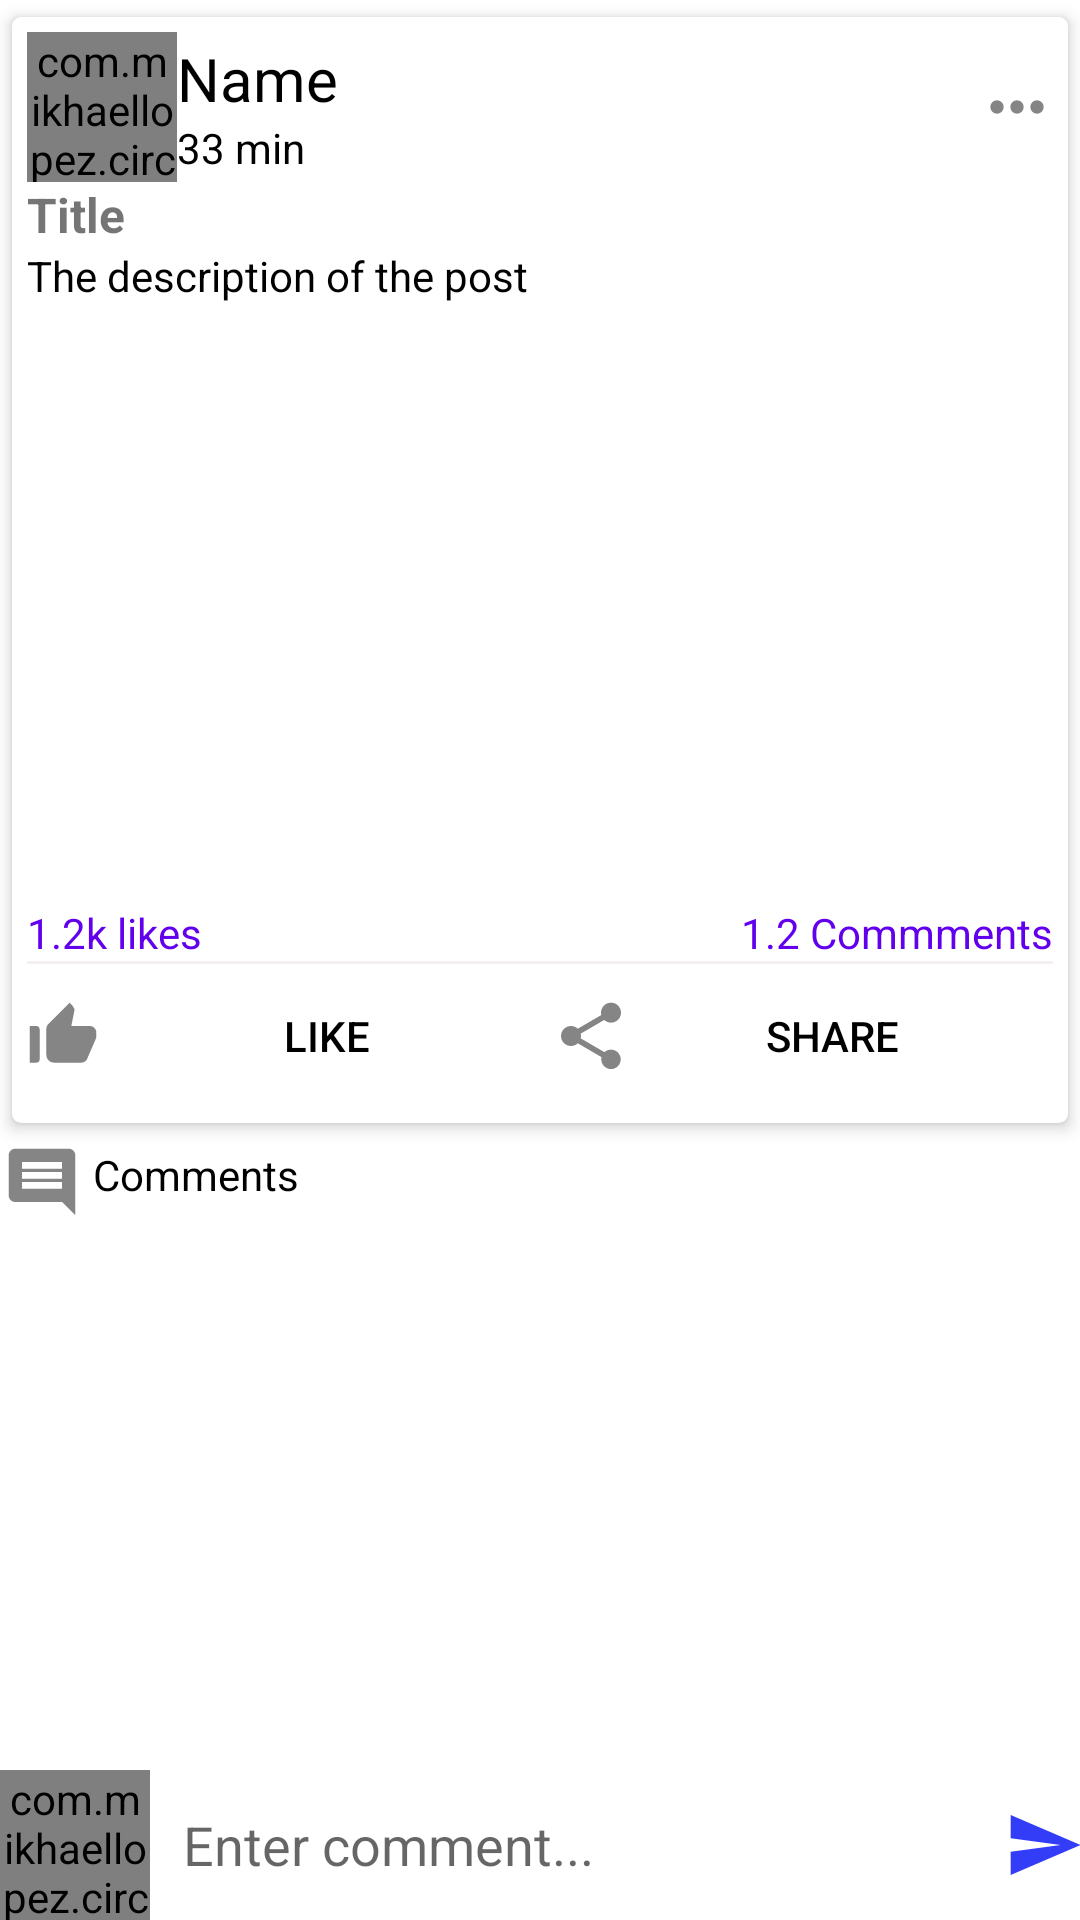

Locate icon controls on the screen. Image size 1080*1920, boxes as [x1,y1,x2,y2].
more: [990,100,1044,114]
send: [1010,1815,1080,1875]
